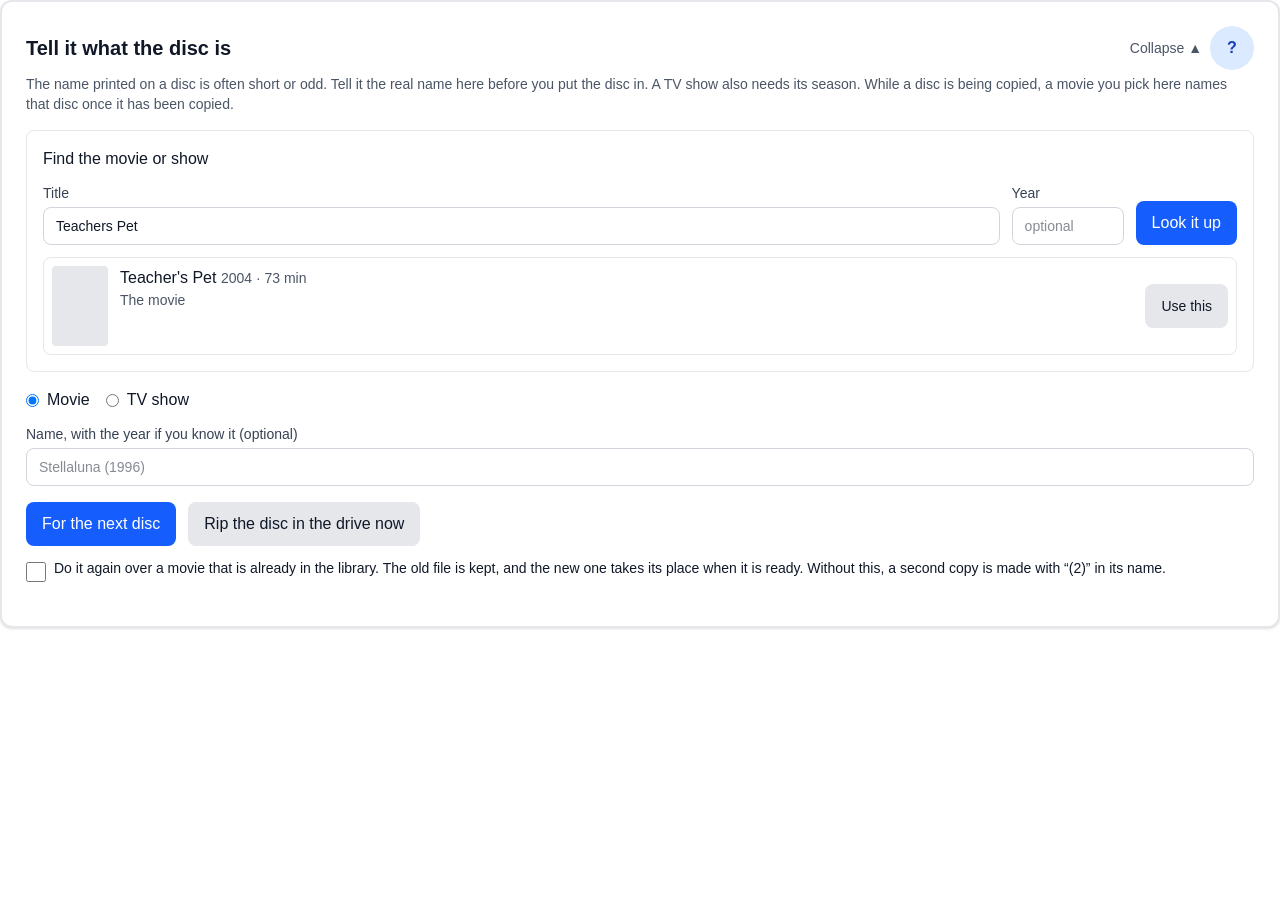
the "Tell it what the disc is" form › starts with movies only, and the Movie / TV show choice changes what the search lists
The image size is (1280, 900).
Click the radio button labelled "TV show" at (112,400), box left=106, top=394, right=119, bottom=406
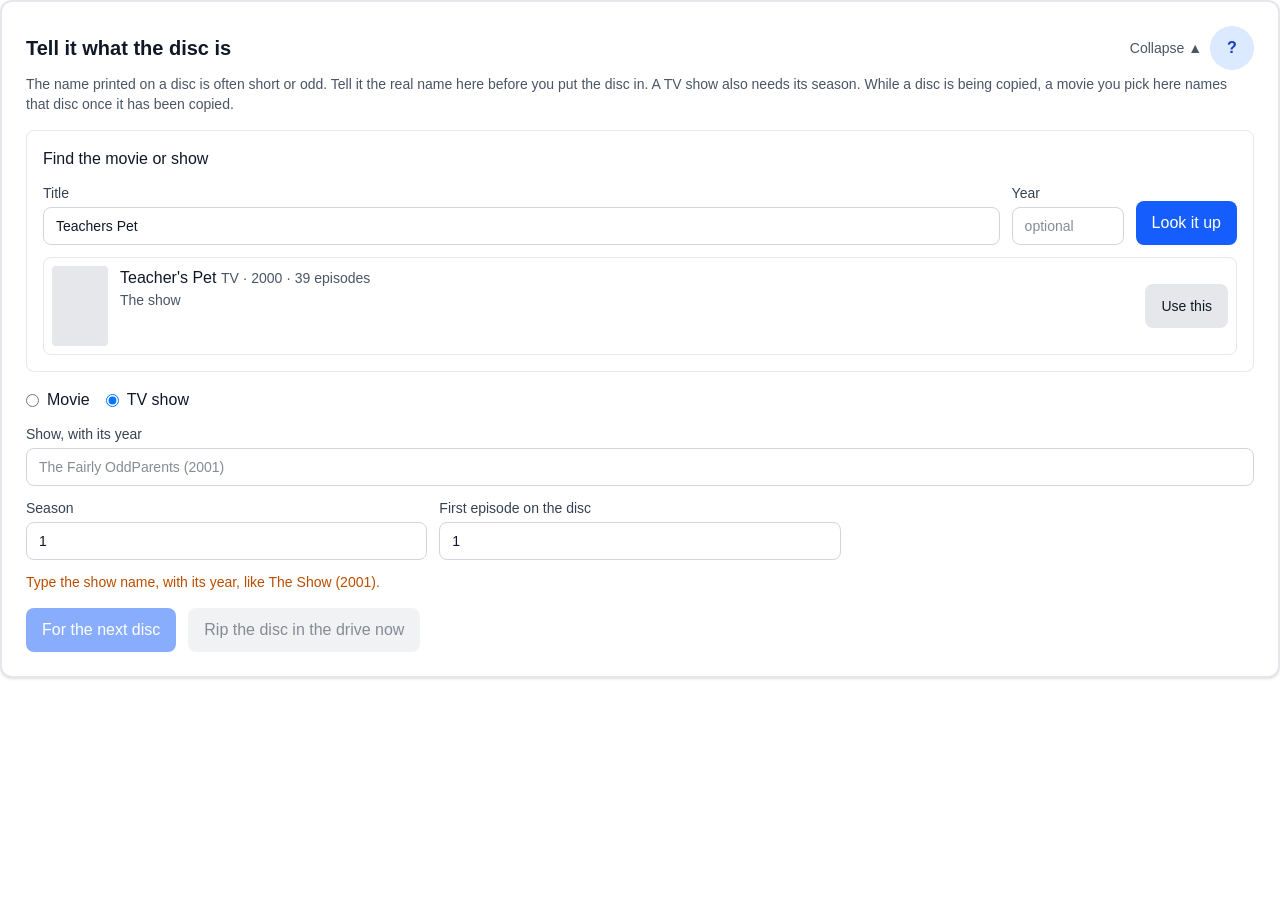
expect the list item shows "The show": met, box left=120, top=292, right=181, bottom=308
Click the radio button labelled "Movie" at (32,400), box left=26, top=394, right=39, bottom=406
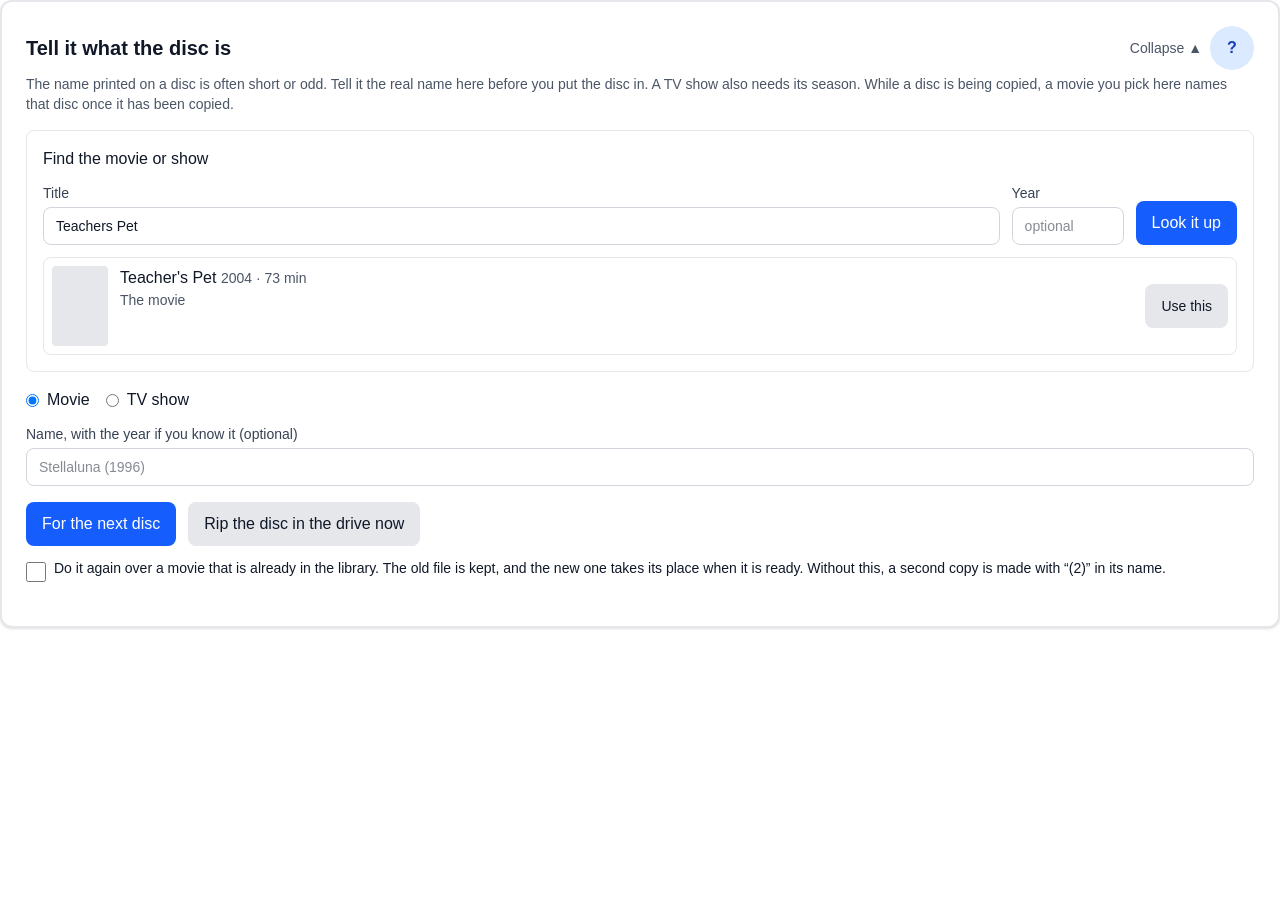
expect the list item shows "The movie": met, box left=120, top=292, right=185, bottom=308
